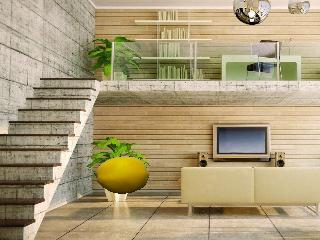lemon: (91, 152, 155, 199)
